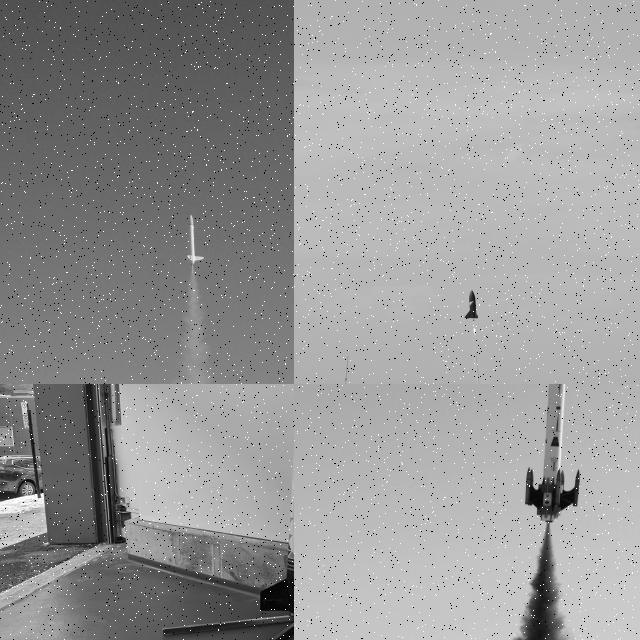Rocket: (521, 384, 582, 523), (186, 214, 204, 266), (463, 289, 479, 321)
